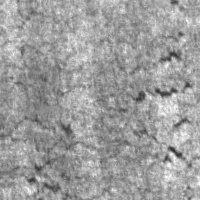crazing: (10, 102, 198, 200), (15, 31, 192, 111)
